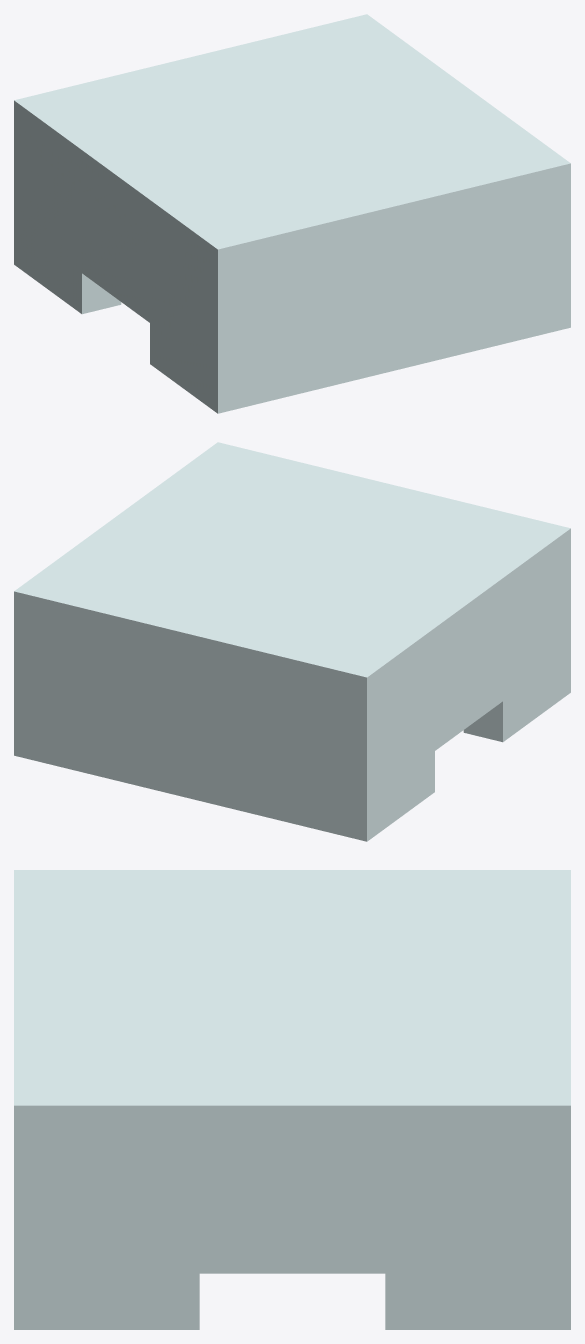
File: prize_ball_top.obj
3 views of the same model, one above another, from view 1: azimuth 30°, elevation 25°; view 2: azimuth 150°, elevation 25°; view 3: azimuth 270°, elevation 25° (orthographic). The views are drawn at different scales.
Visible parts, largest first — view 1: prize_ball_top; view 2: prize_ball_top; view 3: prize_ball_top.
Part boxes in pixels (x1,y1,x2,y2): prize_ball_top: [14, 14, 570, 413]; prize_ball_top: [14, 442, 570, 841]; prize_ball_top: [14, 870, 570, 1329].
Bounding box in the file's own units: 1.44 × 0.64 × 1.44.
Materials: 1 (1 with a texture image).
